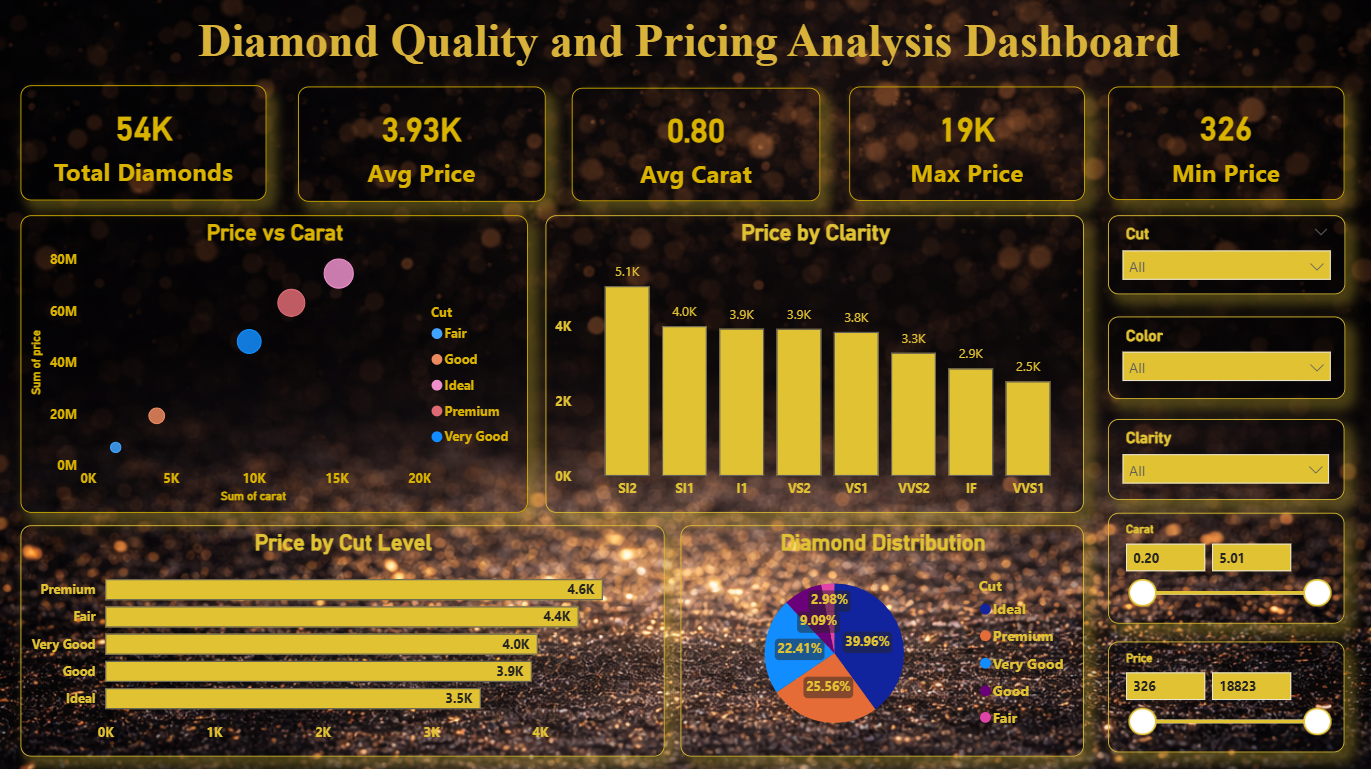

This screenshot's page, from the dashboard's own definition file:
{"tool":"powerbi","page":{"name":"Page 1","canvas":[1280,720],"ordinal":0},"visuals":[{"type":"textbox","box":[26.7,9.3,1232.6,73.3],"z":0},{"type":"card","fields":{"Values":["diamonds.Total Diamonds"]},"box":[21.1,80,229.1,107],"z":1000,"group":"g1"},{"type":"card","fields":{"Values":["diamonds.Avg Price"]},"box":[279.2,81.2,230.2,107],"z":2000,"group":"g1"},{"type":"card","fields":{"Values":["diamonds.Avg Carat"]},"box":[533.9,82.3,231.4,105.8],"z":3000,"group":"g1"},{"type":"card","fields":{"Values":["diamonds.Max Price"]},"box":[791.5,81.6,219.3,106],"z":4000,"group":"g1"},{"type":"card","fields":{"Values":["diamonds.Min Price"]},"box":[1032.7,81.2,219.8,105.8],"z":5000,"group":"g1"},{"type":"scatterChart","title":"Price vs Carat","fields":{"X":["Sum(diamonds.carat)"],"Y":["Sum(diamonds.price)"],"Series":["diamonds.cut"],"Size":["Sum(diamonds.price)"]},"box":[21.1,200.9,472.1,276.7],"z":6000,"group":"g1"},{"type":"barChart","title":"Price by Cut Level","fields":{"Category":["diamonds.cut"],"Y":["diamonds.Avg Price"]},"box":[21.1,489.3,598.8,215.1],"z":7000,"group":"g1"},{"type":"columnChart","title":"Price by Clarity","fields":{"Category":["diamonds.clarity"],"Y":["diamonds.Avg Price"]},"box":[509.5,200.9,501.2,276.7],"z":8000,"group":"g1"},{"type":"pieChart","title":"Diamond Distribution","fields":{"Category":["diamonds.cut"],"Y":["diamonds.Total Diamonds"]},"box":[635.1,489.3,375.6,215.1],"z":9000,"group":"g1"},{"type":"slicer","fields":{"Values":["diamonds.cut"]},"box":[1032.7,200.9,220.9,73.3],"z":10000,"group":"g1"},{"type":"slicer","fields":{"Values":["diamonds.color"]},"box":[1032.7,295.1,220.9,76.7],"z":11000,"group":"g1"},{"type":"slicer","fields":{"Values":["diamonds.clarity"]},"box":[1032.7,390.5,219.8,75.6],"z":12000,"group":"g1"},{"type":"slicer","fields":{"Values":["diamonds.carat"]},"box":[1032.7,477.7,219.8,103.5],"z":13000,"group":"g1"},{"type":"slicer","fields":{"Values":["diamonds.price"]},"box":[1032.7,597.6,219.8,103.5],"z":14000,"group":"g1"},{"type":"group","id":"g1","title":"Group 1","box":[21.1,80,1232.2,624.4],"z":14001}]}

Visuals, with their boxes in screenshot pixels (x1, y1, x2, y2), scaled from the page's 1280x720 canvas onto the 1371x769 screenshot:
textbox: {"left": 29, "top": 10, "right": 1349, "bottom": 88}
card - diamonds.Total Diamonds: {"left": 23, "top": 85, "right": 268, "bottom": 200}
card - diamonds.Avg Price: {"left": 299, "top": 87, "right": 546, "bottom": 201}
card - diamonds.Avg Carat: {"left": 572, "top": 88, "right": 820, "bottom": 201}
card - diamonds.Max Price: {"left": 848, "top": 87, "right": 1083, "bottom": 200}
card - diamonds.Min Price: {"left": 1106, "top": 87, "right": 1342, "bottom": 200}
"Price vs Carat" scatterChart: {"left": 23, "top": 215, "right": 528, "bottom": 510}
"Price by Cut Level" barChart: {"left": 23, "top": 523, "right": 664, "bottom": 752}
"Price by Clarity" columnChart: {"left": 546, "top": 215, "right": 1083, "bottom": 510}
"Diamond Distribution" pieChart: {"left": 680, "top": 523, "right": 1083, "bottom": 752}
slicer - diamonds.cut: {"left": 1106, "top": 215, "right": 1343, "bottom": 293}
slicer - diamonds.color: {"left": 1106, "top": 315, "right": 1343, "bottom": 397}
slicer - diamonds.clarity: {"left": 1106, "top": 417, "right": 1342, "bottom": 498}
slicer - diamonds.carat: {"left": 1106, "top": 510, "right": 1342, "bottom": 621}
slicer - diamonds.price: {"left": 1106, "top": 638, "right": 1342, "bottom": 749}
"Group 1" group: {"left": 23, "top": 85, "right": 1342, "bottom": 752}
